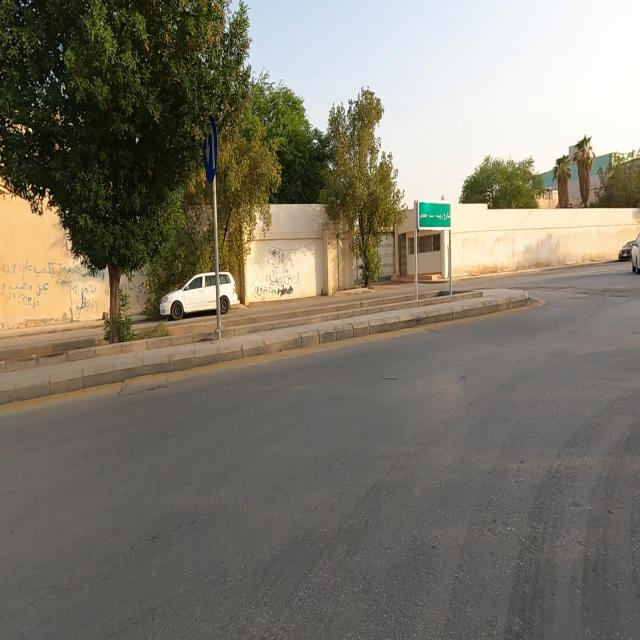Graffiti: (2, 256, 57, 308), (249, 248, 301, 297), (57, 271, 106, 313), (123, 272, 148, 301)
